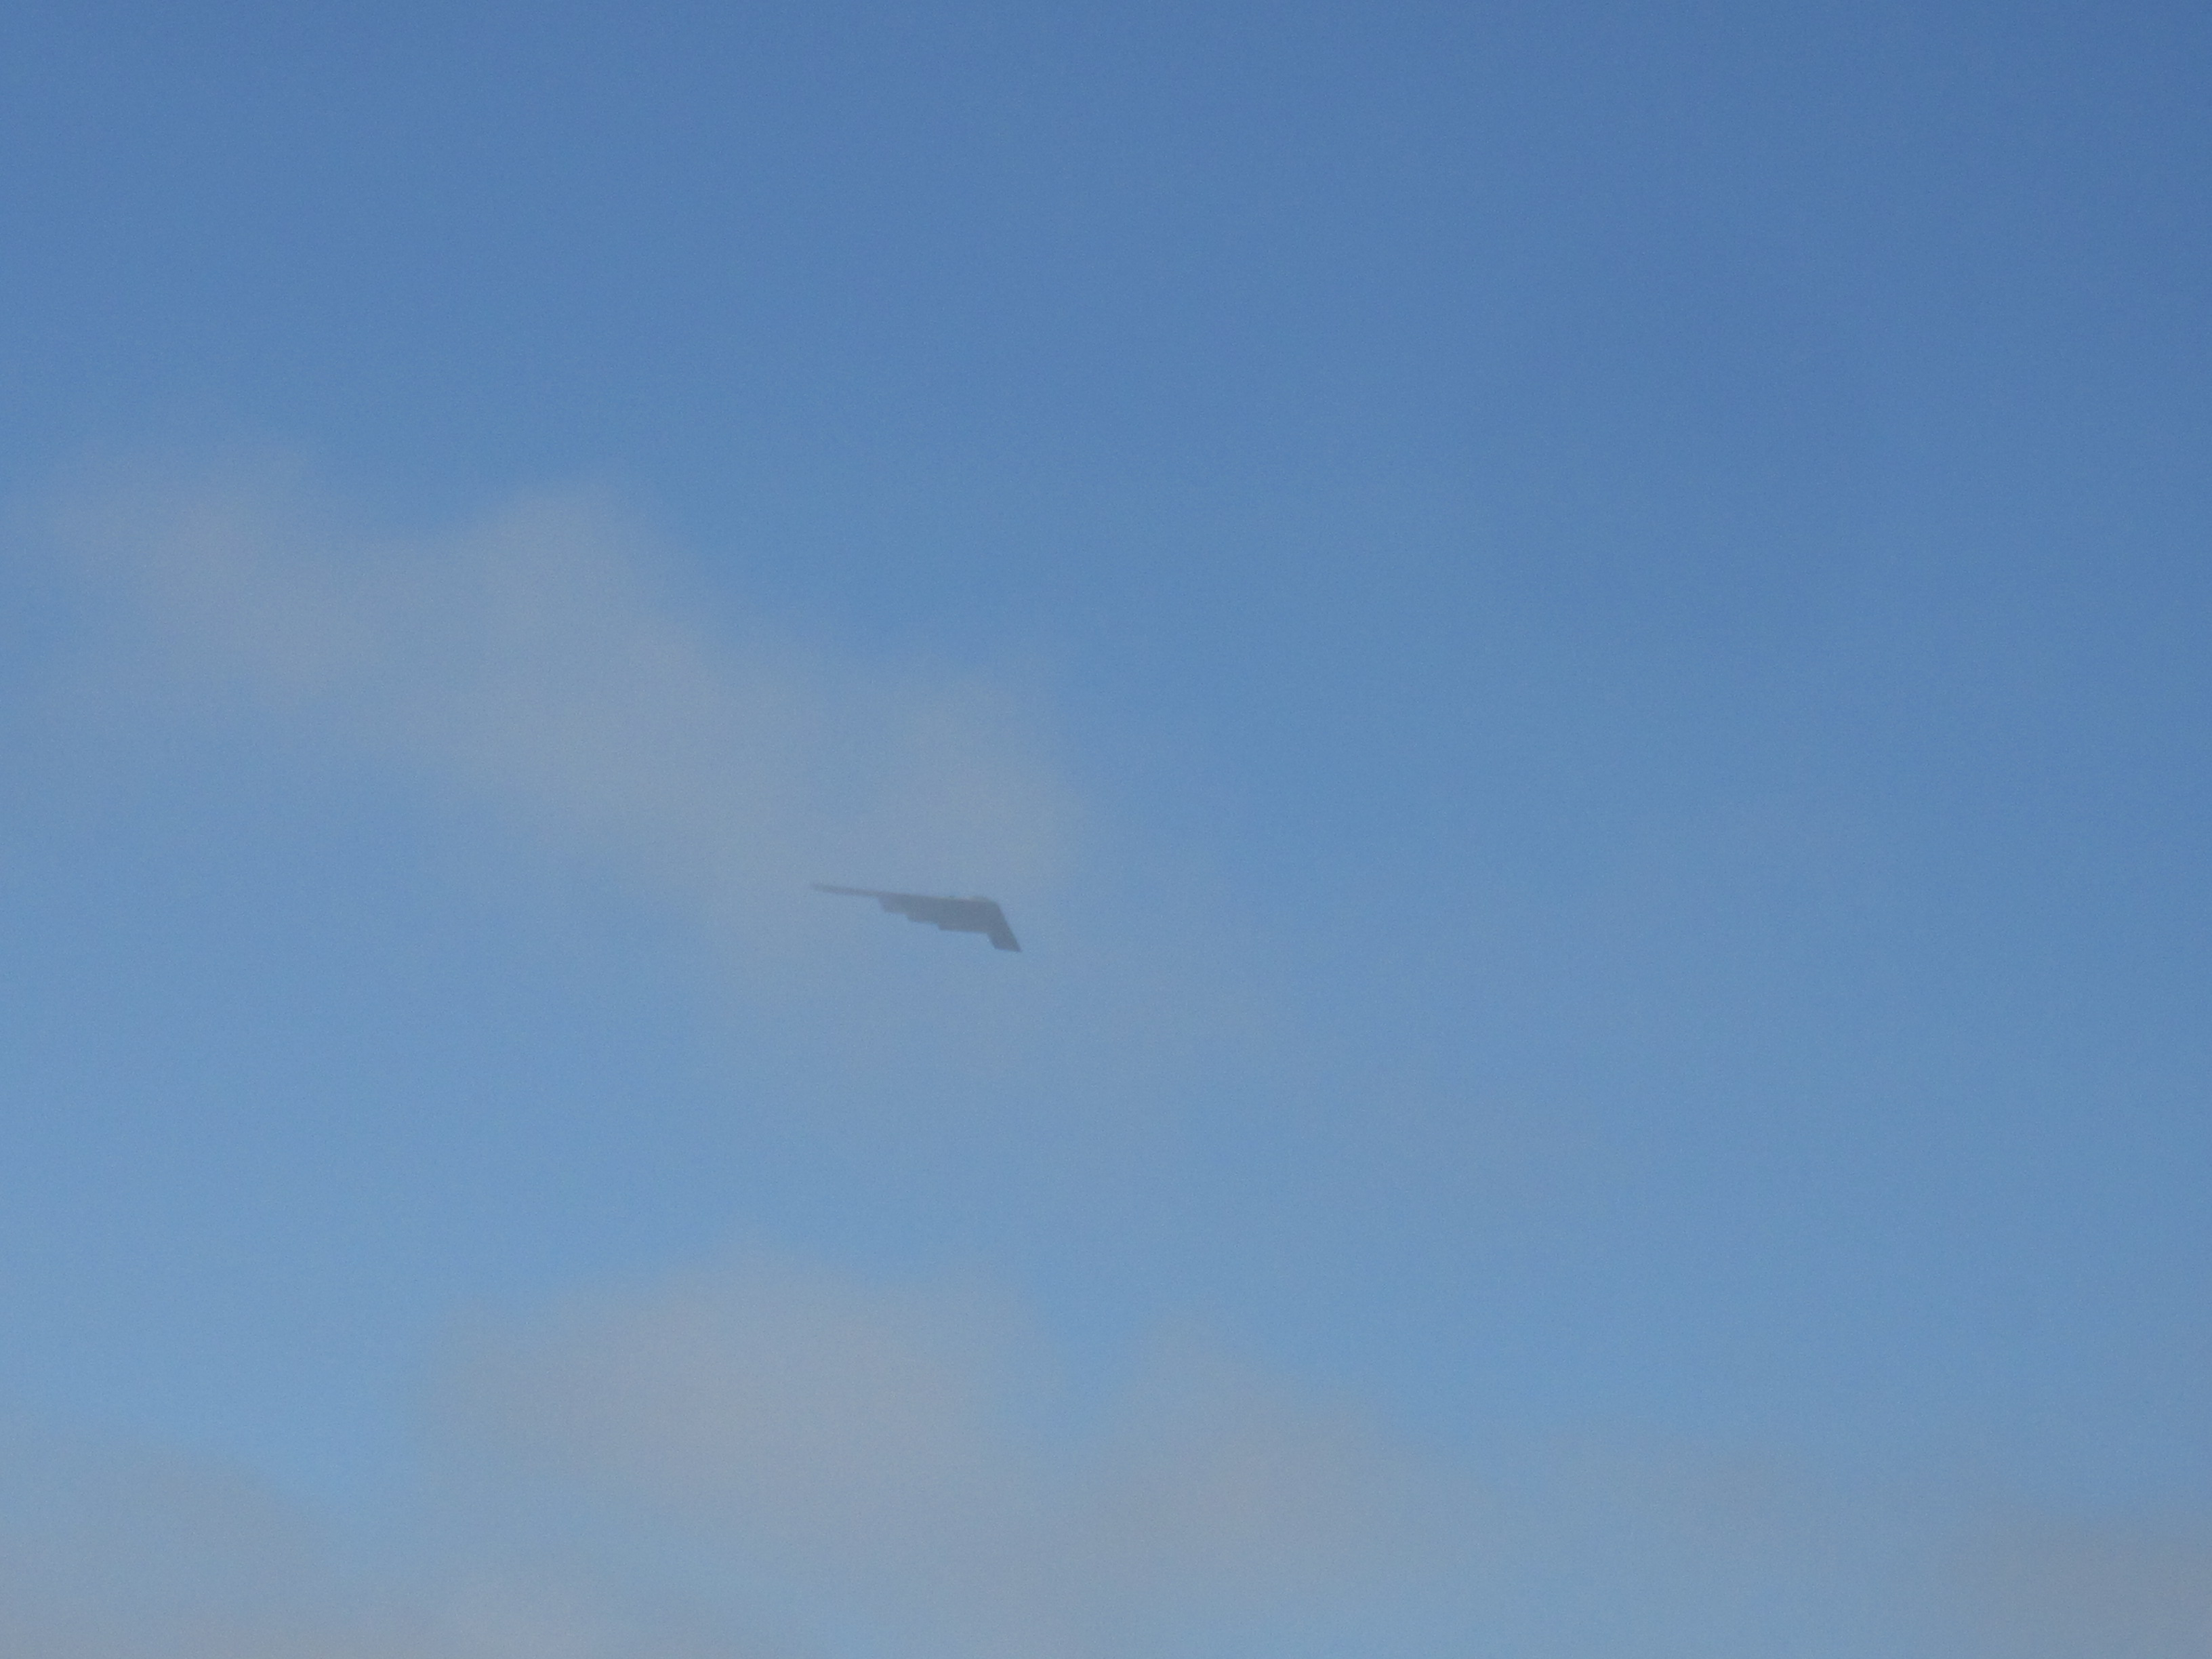B2: (810, 882, 1022, 951)
